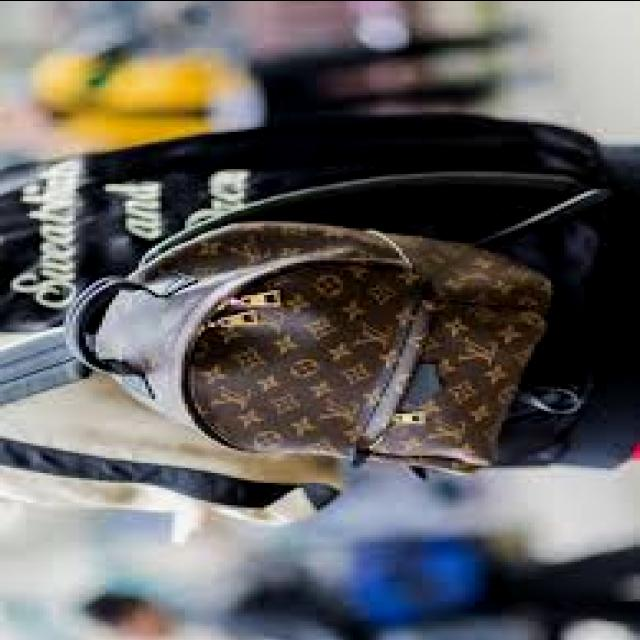backpack: (65, 190, 571, 491)
